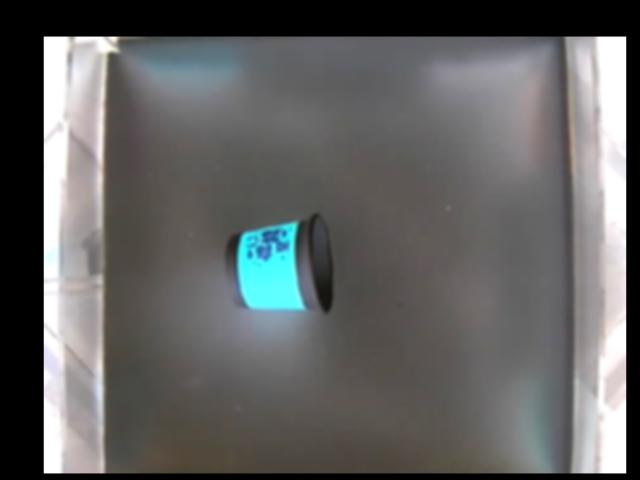Cup: (224, 214, 335, 317)
